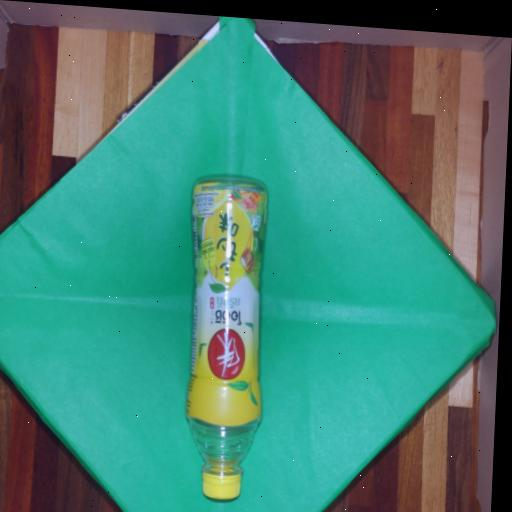bottle: (177, 173, 279, 505)
